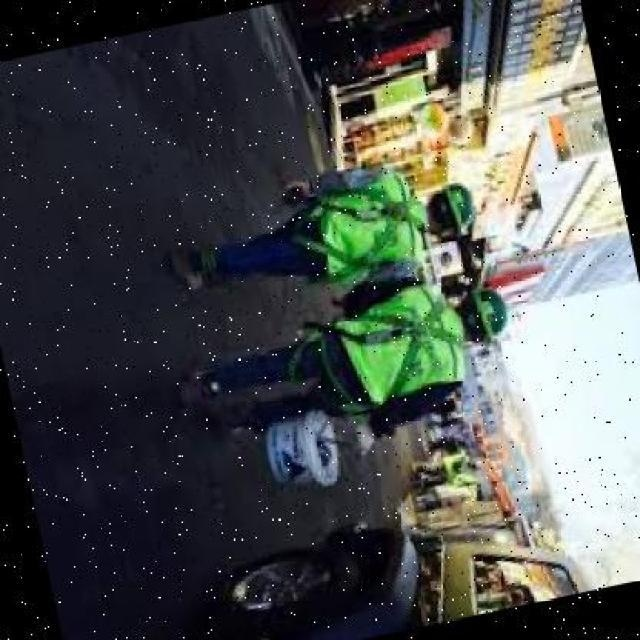Arnes_seguridad: (279, 281, 479, 438), (271, 166, 434, 282)
